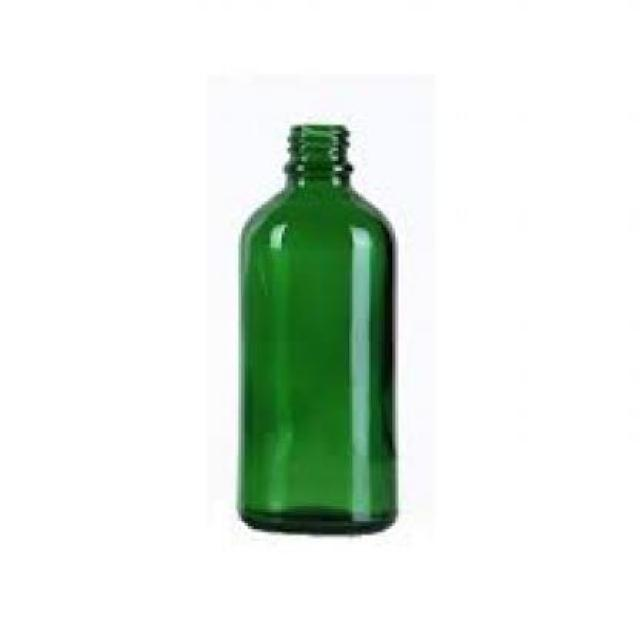glass: (242, 123, 402, 535)
